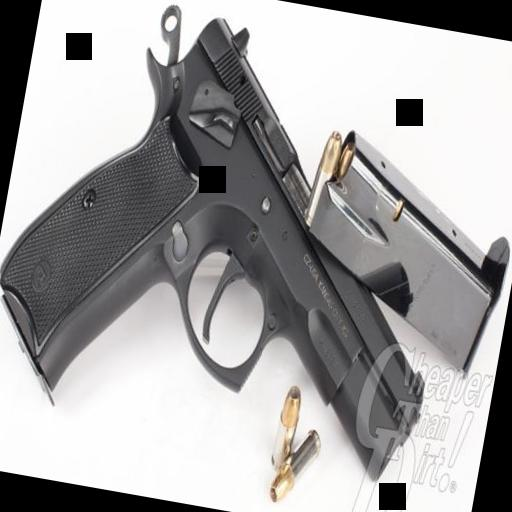Handgun: (0, 0, 492, 496)
